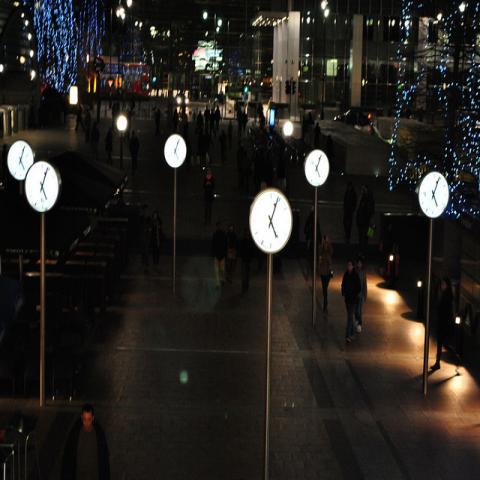car: (334, 105, 374, 127)
